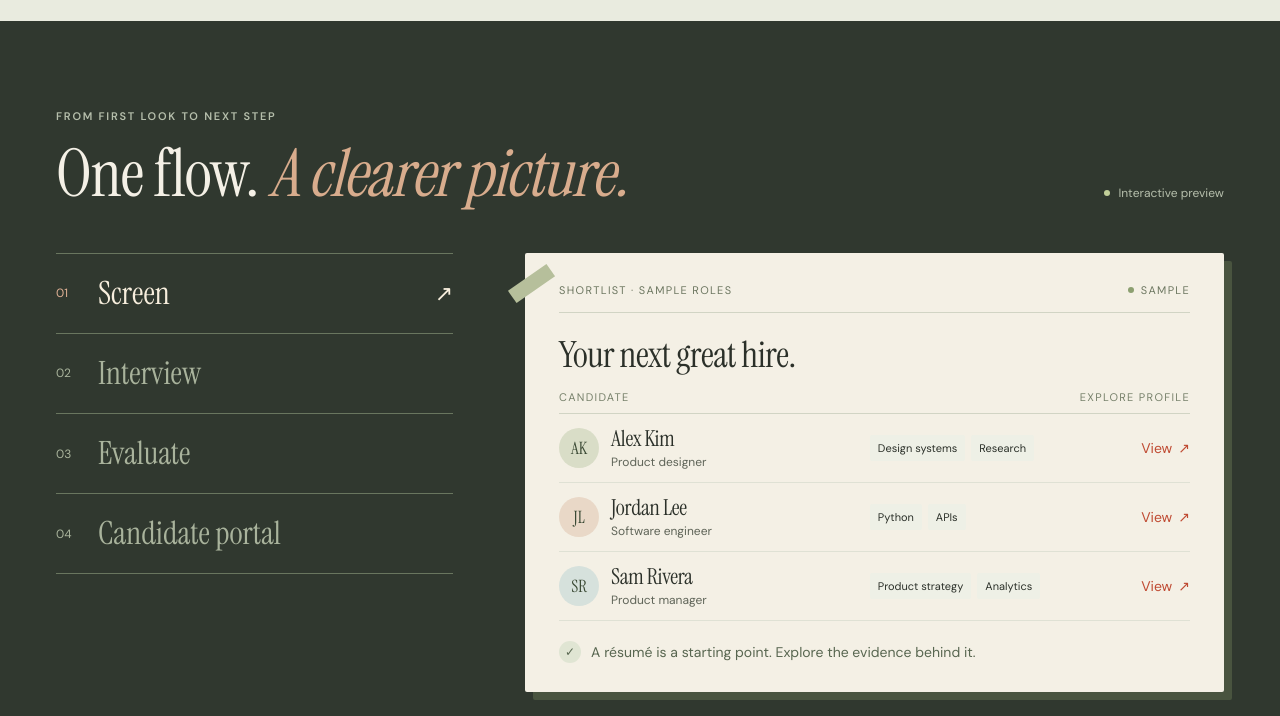
Scenario: the candidate file and the preview › ask the person's question first, then the two anyone gets, and round again
(page scrolled)
Click the tab "02 Interview".
click(150, 373)  # box x1=56 y1=333 x2=453 y2=413
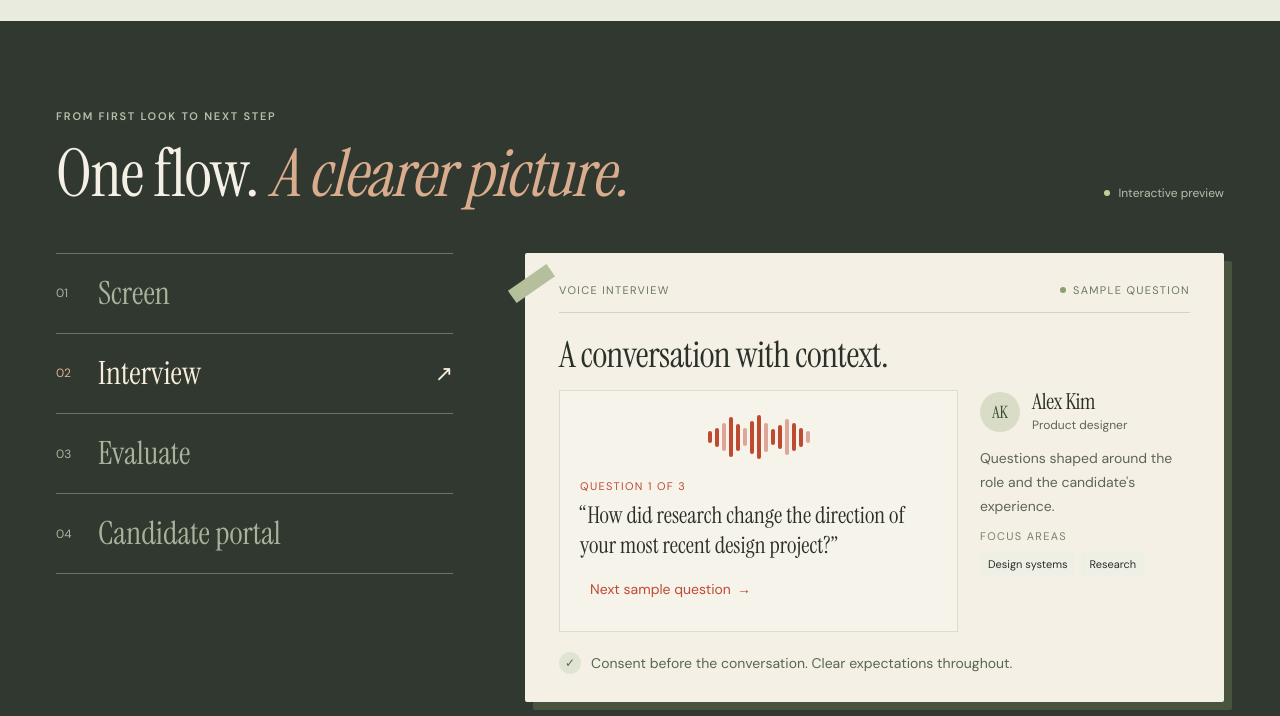
expect the text "Question 1 of 3" is shown: met, box x1=580 y1=479 x2=686 y2=493
Click the button "Next sample question →".
click(666, 589)  # box x1=580 y1=567 x2=751 y2=611
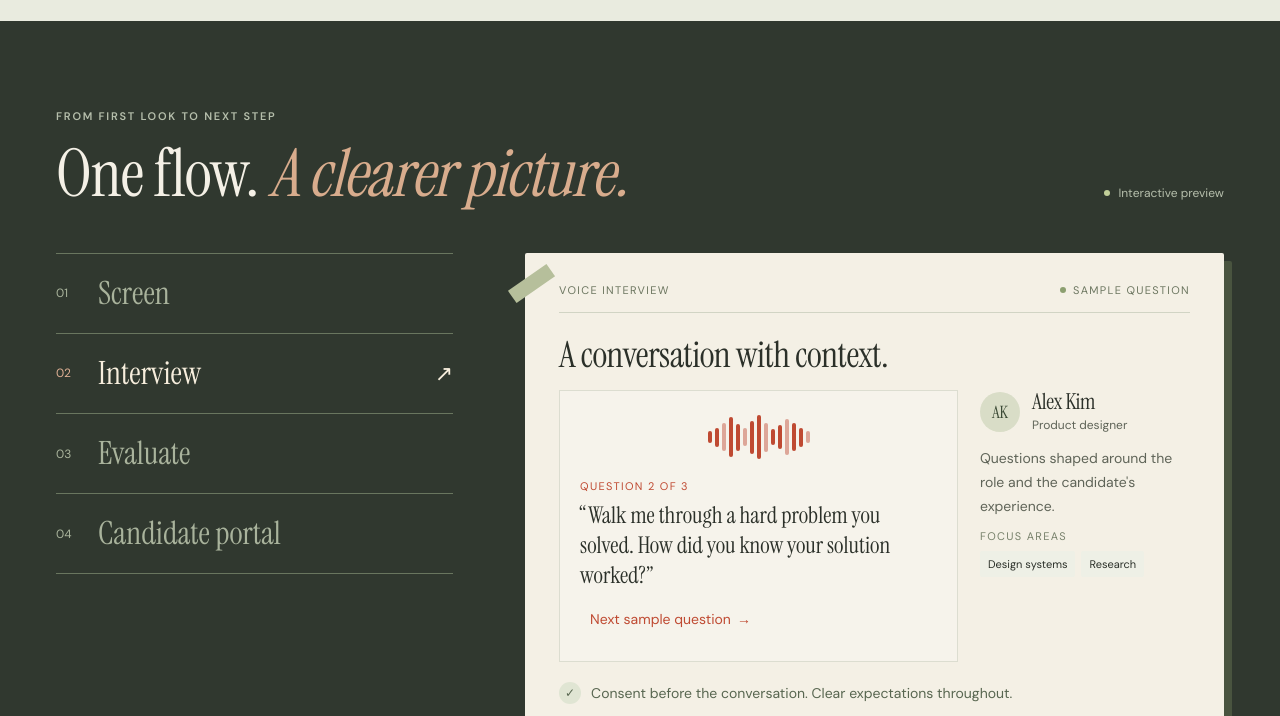
expect the text "Question 2 of 3" is shown: met, box x1=580 y1=479 x2=689 y2=493
expect the text "“Walk me through a hard problem you solved. How did you know your solution worked?”" is shown: met, box x1=580 y1=501 x2=937 y2=591
Click the button "Next sample question →".
click(666, 619)  # box x1=580 y1=597 x2=751 y2=641
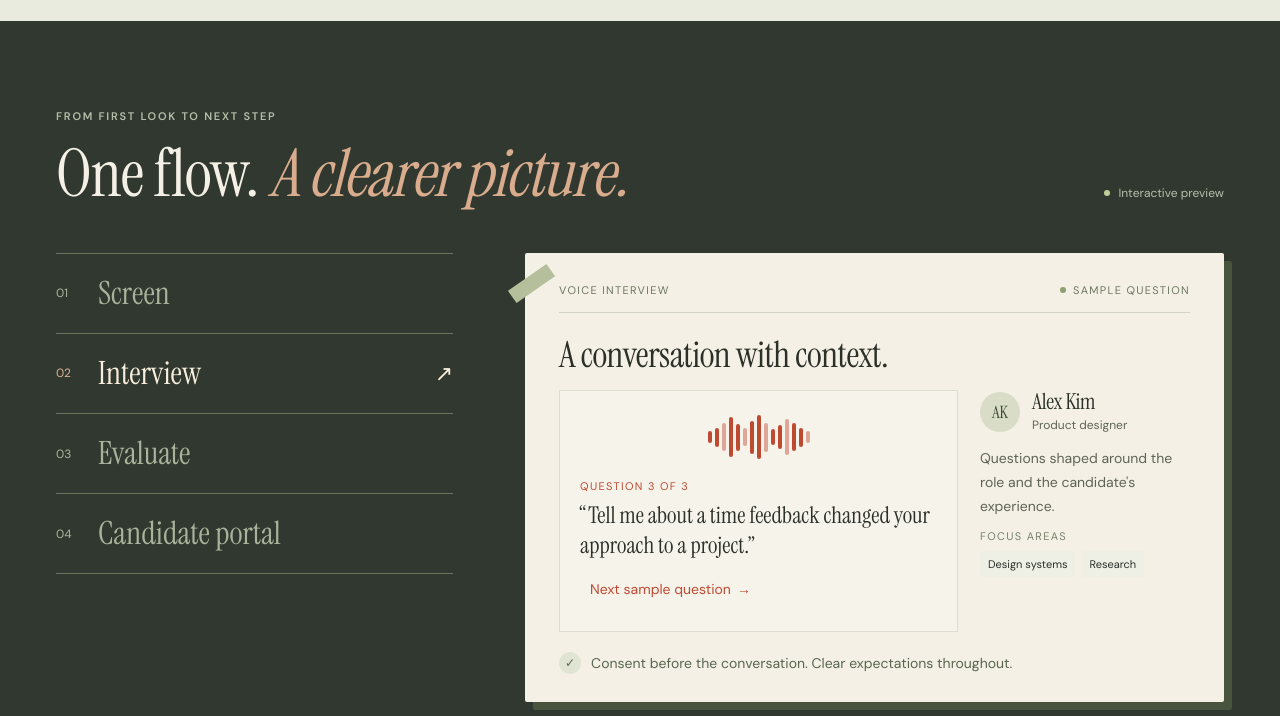
Click the button "Next sample question →".
click(666, 589)  # box x1=580 y1=567 x2=751 y2=611
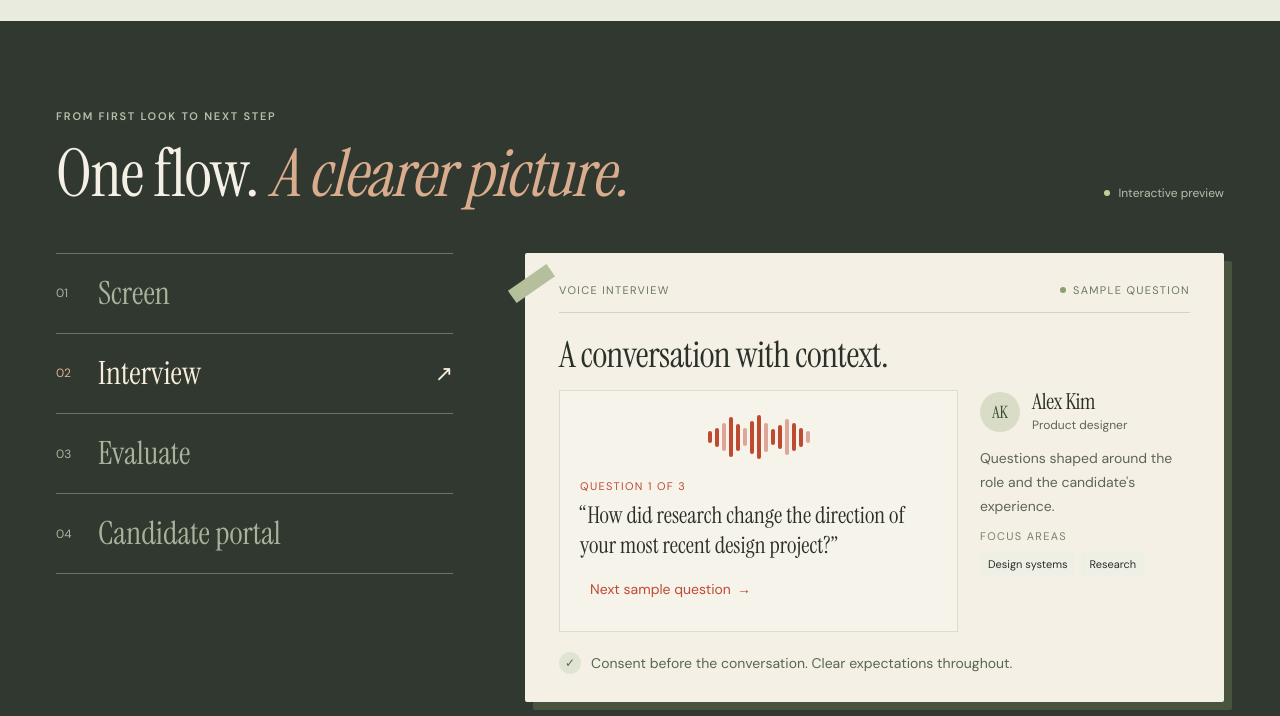
expect the text "Question 1 of 3" is shown: met, box x1=580 y1=479 x2=686 y2=493
